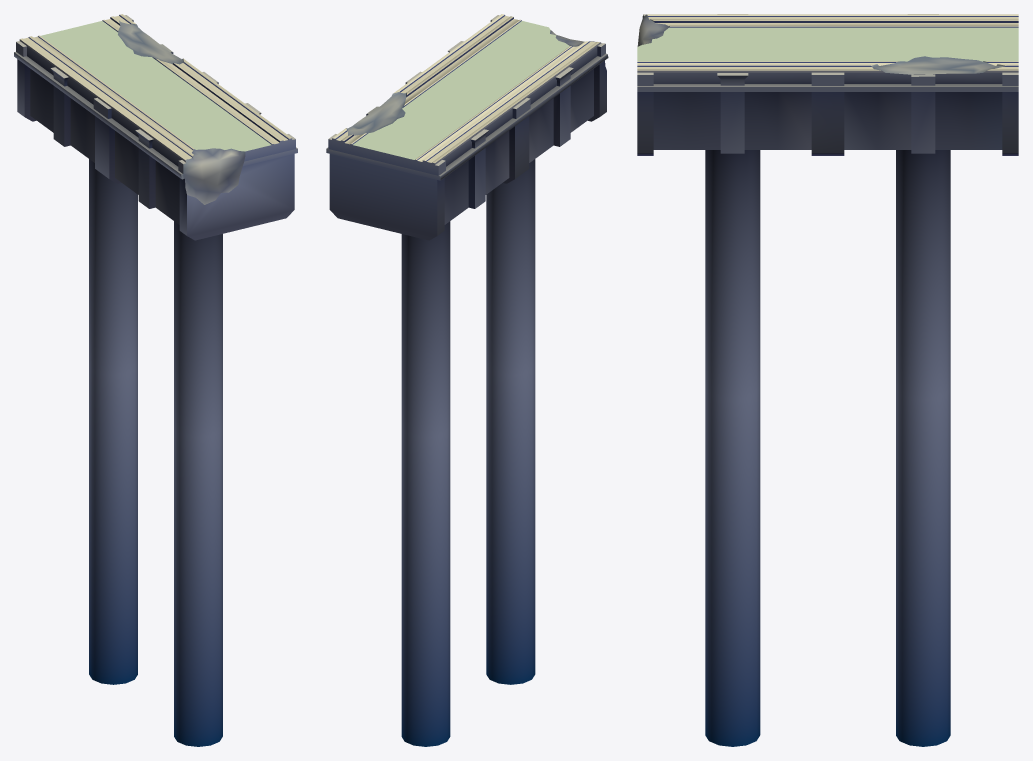
Rendered from BridgeTwoLegs.gltf.
The picture shows the model from 3 angles, left to right: view 1: azimuth 30°, elevation 25°; view 2: azimuth 150°, elevation 25°; view 3: azimuth 270°, elevation 25°; orthographic projection. The views are drawn at different scales.
Parts seen in each view (by area): view 1: BridgeTwoLegsMesh; view 2: BridgeTwoLegsMesh; view 3: BridgeTwoLegsMesh.
Boxes of the visible parts, x1=… form: BridgeTwoLegsMesh: x1=14, y1=14, x2=297, y2=746; BridgeTwoLegsMesh: x1=326, y1=14, x2=608, y2=746; BridgeTwoLegsMesh: x1=637, y1=14, x2=1018, y2=746.
Size of the model in its own units: 7.77 by 40.12 by 20.
